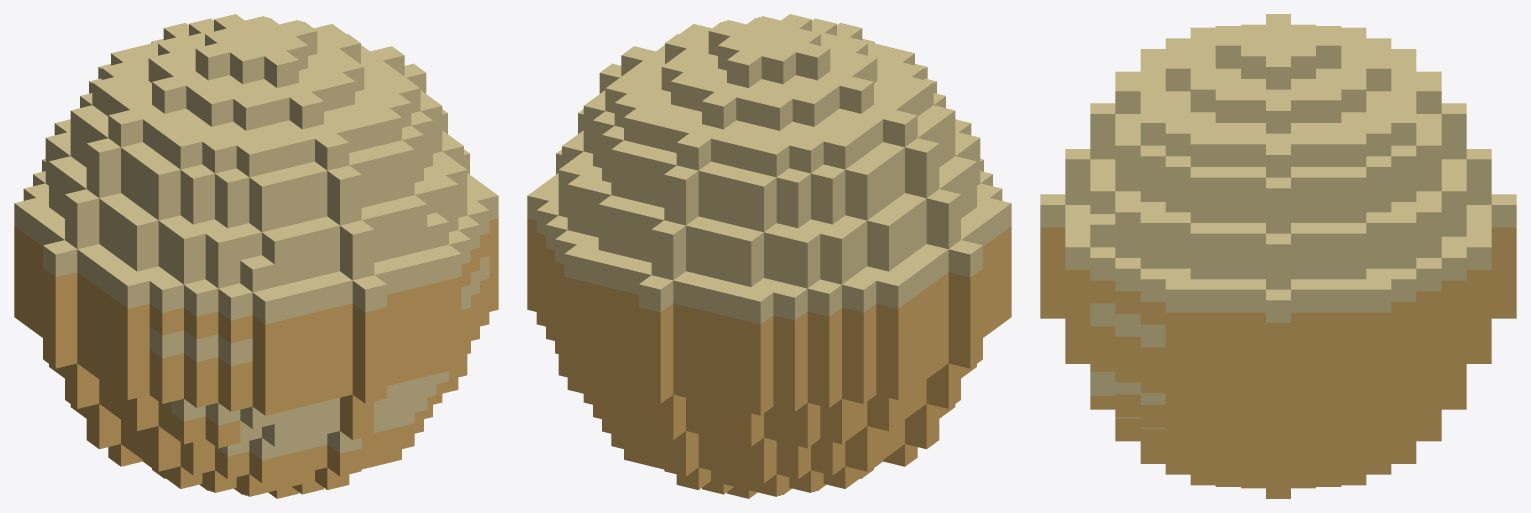
File: core.glb
3 renders of one model, left to right at view 1: azimuth 30°, elevation 25°; view 2: azimuth 150°, elevation 25°; view 3: azimuth 270°, elevation 25°, orthographic.
Size of the model in its own units: 19 by 19 by 19.
